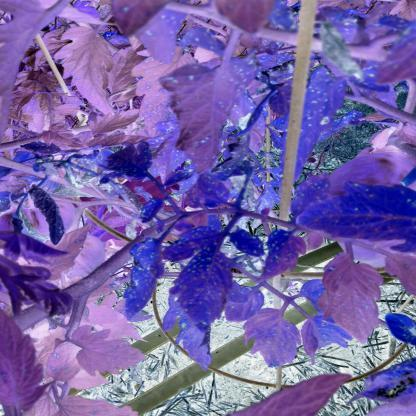Tomato mold leaf: (318, 254, 384, 353), (65, 324, 154, 374)
